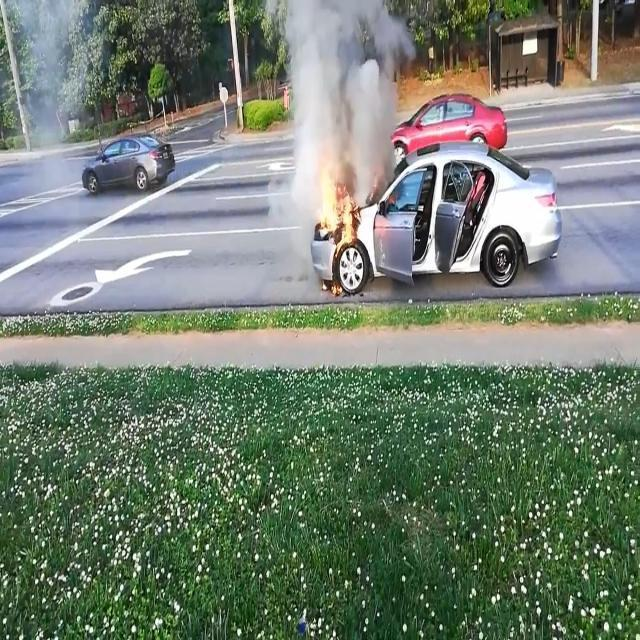fire: (312, 132, 364, 301)
